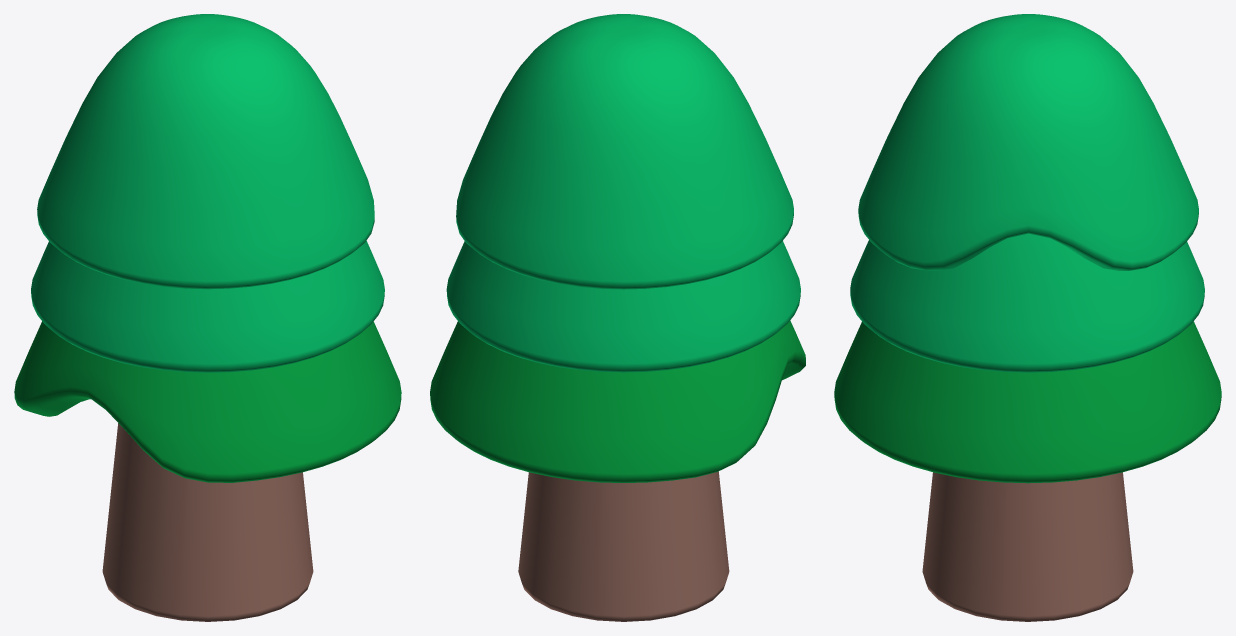
File: City_17_Tree_3.glb
3 renders of one model, left to right at view 1: azimuth 30°, elevation 25°; view 2: azimuth 150°, elevation 25°; view 3: azimuth 270°, elevation 25°, orthographic.
Parts seen in each view (by area): view 1: City_17_Tree_3; view 2: City_17_Tree_3; view 3: City_17_Tree_3.
Part boxes in pixels (x1,y1,x2,y2): City_17_Tree_3: [14, 14, 401, 621]; City_17_Tree_3: [430, 14, 805, 621]; City_17_Tree_3: [834, 14, 1221, 621].
Size of the model in its own units: 2.11 by 3.42 by 2.18.
Materials: 1 (1 with a texture image).
